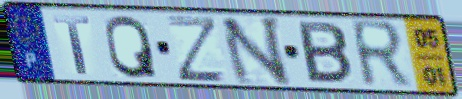B: (295, 19, 355, 87)
N: (216, 15, 293, 87)
Q: (103, 13, 161, 81)
R: (347, 18, 416, 91)
T: (51, 14, 93, 76)
Z: (164, 14, 229, 84)
